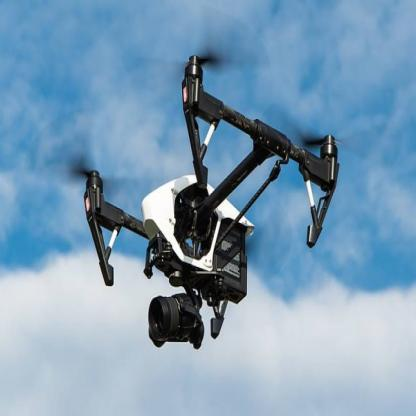drone: (60, 45, 348, 327)
